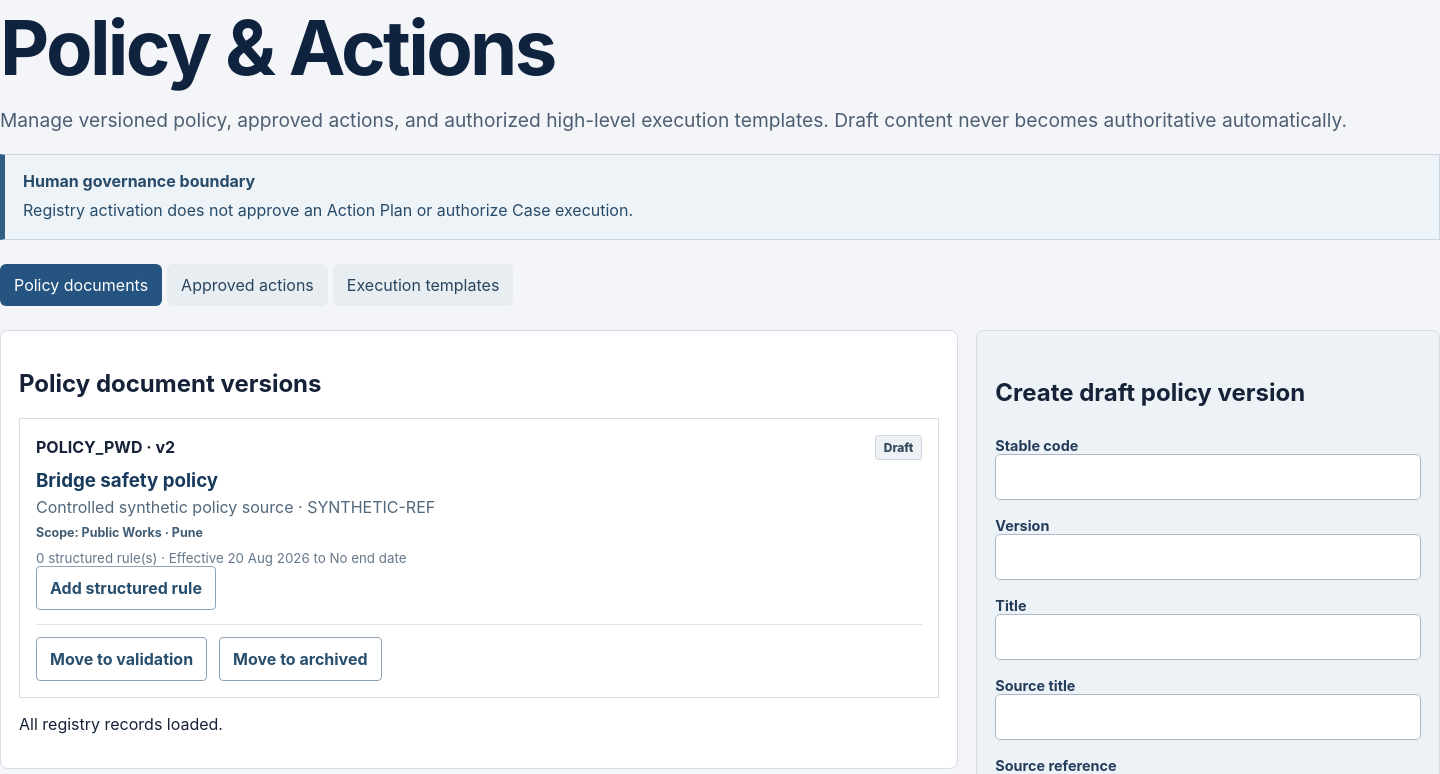
Scenario: Policy & Actions lifecycle administration › offers only valid policy transitions, confirms, and refreshes
What coordinates should you click on to do the following:
click the button "Move to validation"
I would click on:
 (122, 659)
Its box is [36, 637, 207, 681].
(page scrolled)
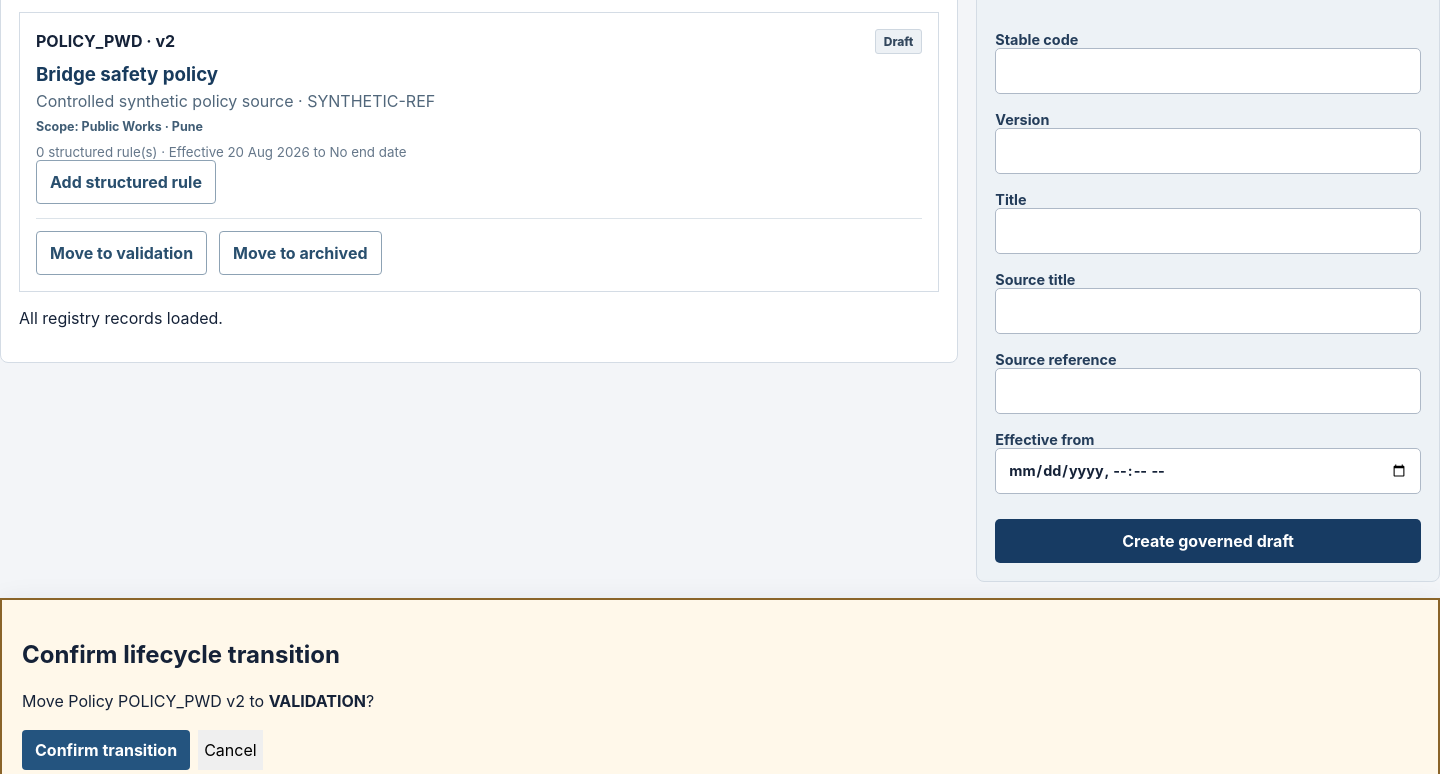
Now the dialog shows "Policy POLICY_PWD v2", box [68, 691, 245, 711]
What coordinates should you click on to do the following:
click the button "Confirm transition"
I would click on:
 (106, 750)
Its box is [22, 730, 190, 770].
(page scrolled)
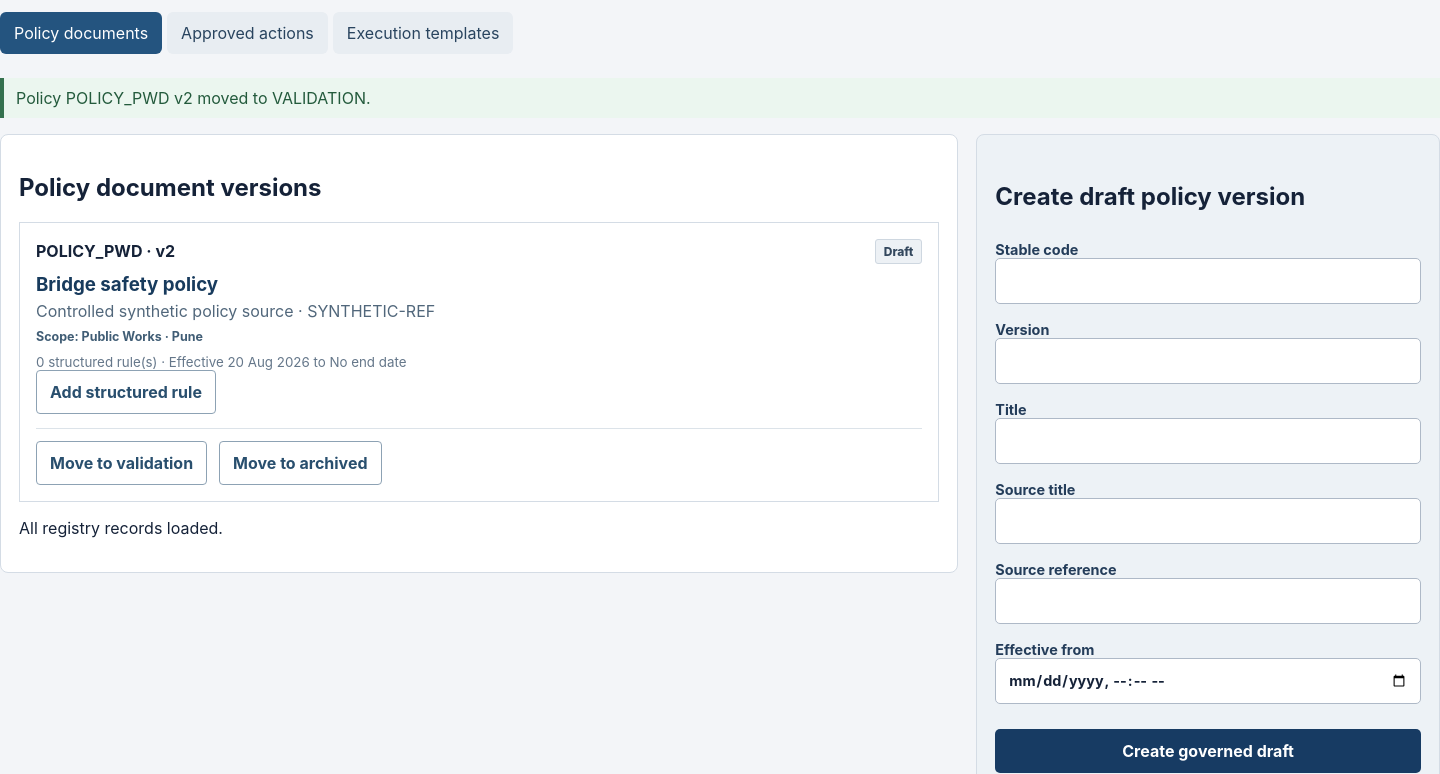
Now the text "Policy POLICY_PWD v2 moved to VALIDATION." is shown, box [0, 78, 1439, 118]
